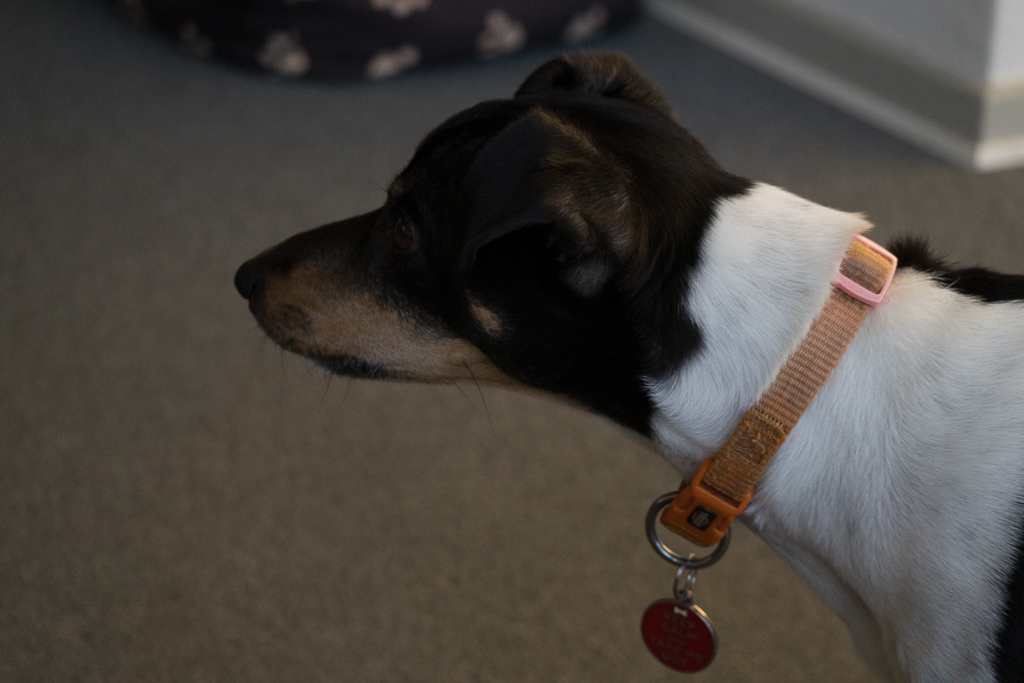Dog: (217, 46, 1024, 683)
